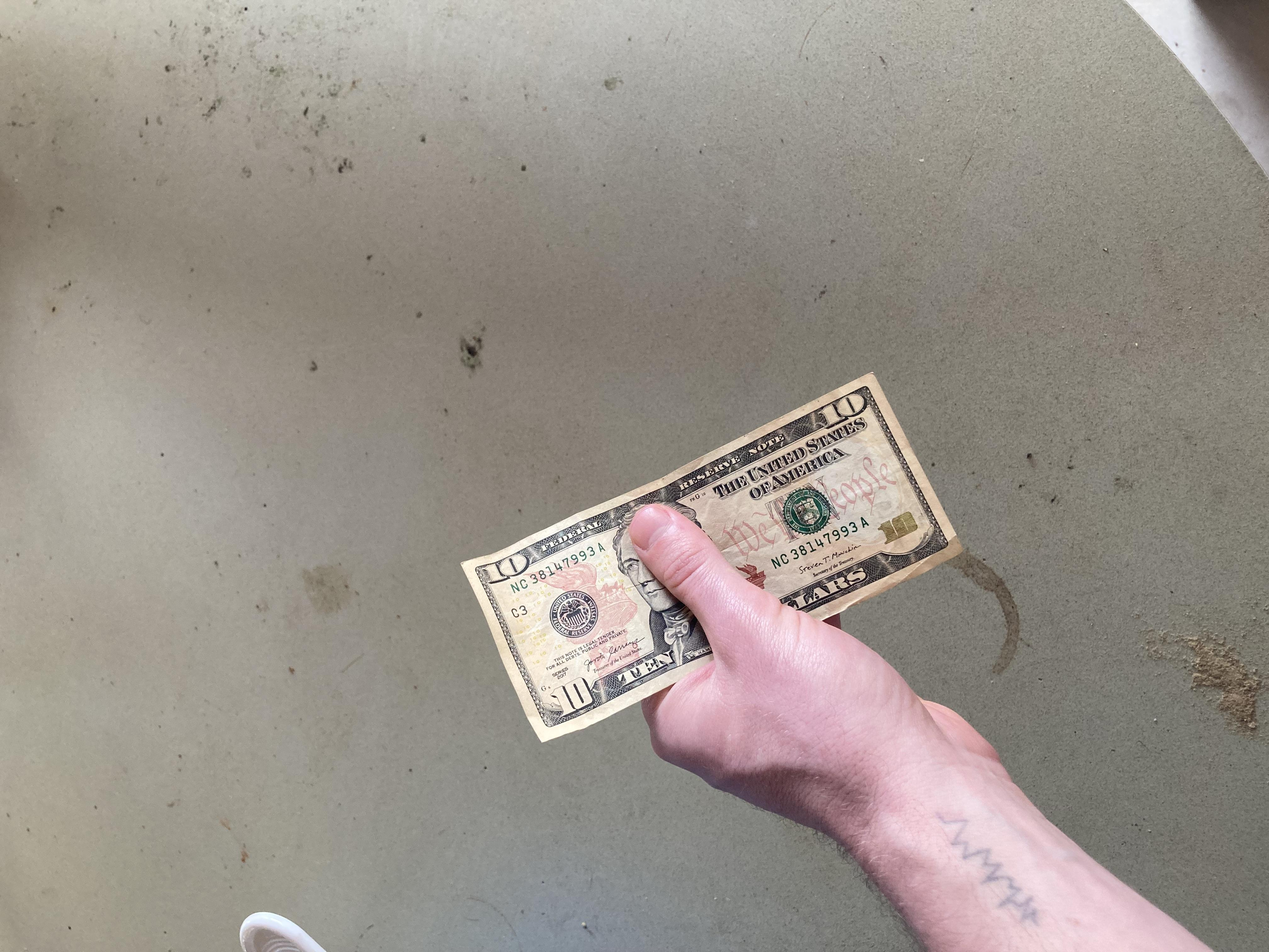ten-front: (274, 348, 774, 725)
